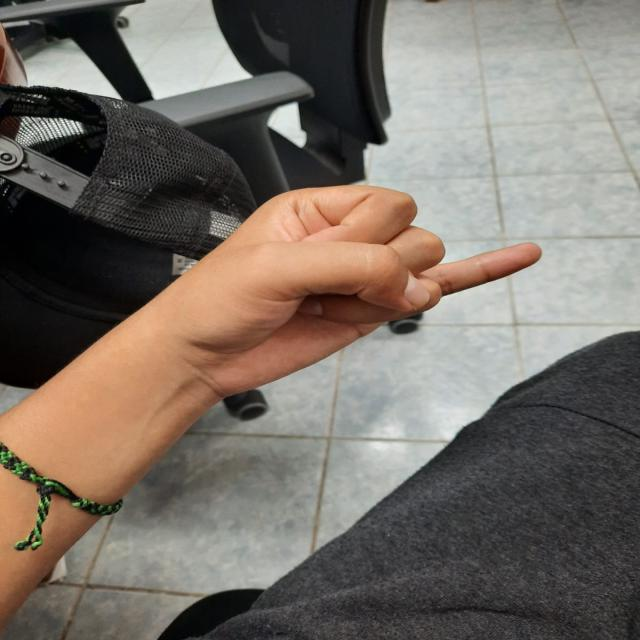Z: (121, 172, 574, 419)
